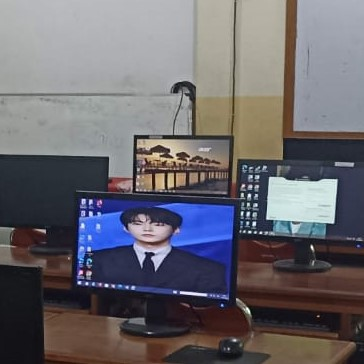monitor: (72, 190, 239, 325), (236, 159, 363, 248), (0, 155, 109, 252), (132, 135, 234, 198), (0, 264, 45, 364)
